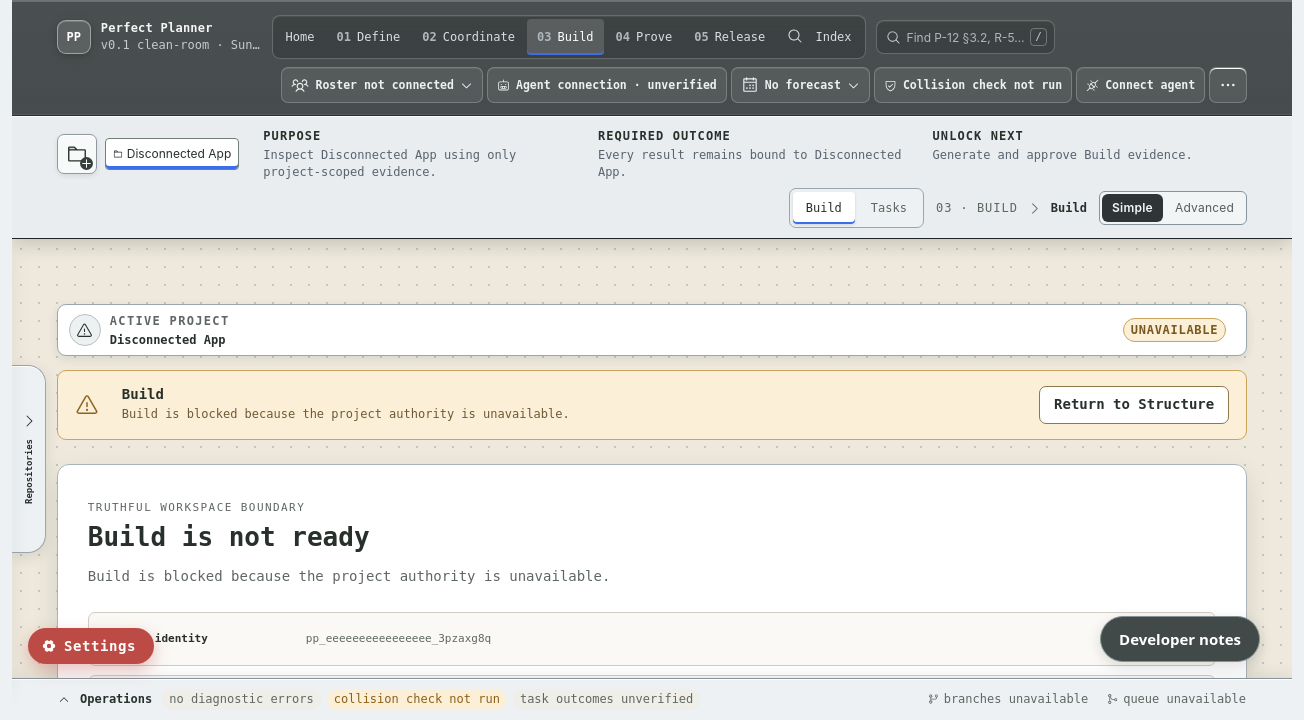
PP-FOUNDATION-100 shell acceptance › an unavailable project is explicit and offers a working return-to-intake action
Expected: the element named "Build unavailable" is shown, x1=12 y1=240 x2=1292 y2=678
Expected: the message shows "Build is blocked because the project authority is unavailable.", x1=122 y1=407 x2=570 y2=421
Click the button "Return to Structure": (1134, 405) x1=1039 y1=386 x2=1229 y2=424
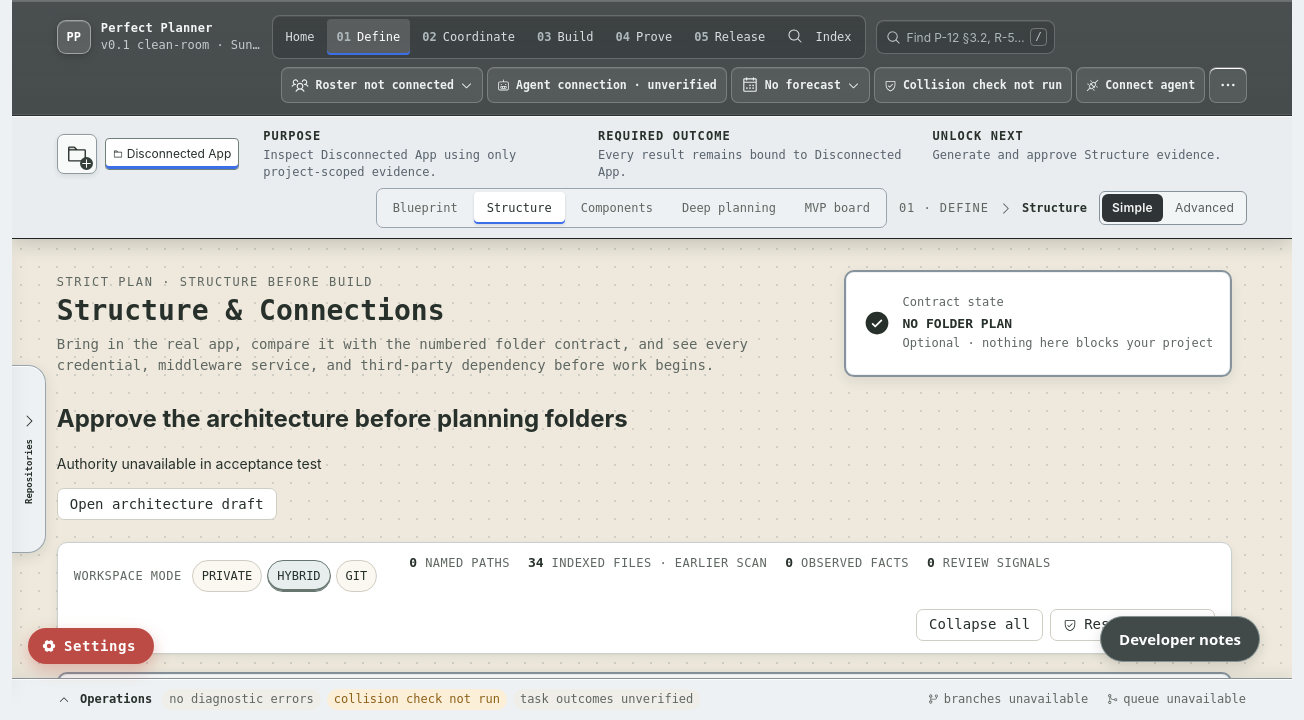
Expected: the element named "Strict folder contract workspace" is shown, x1=12 y1=240 x2=1292 y2=678
